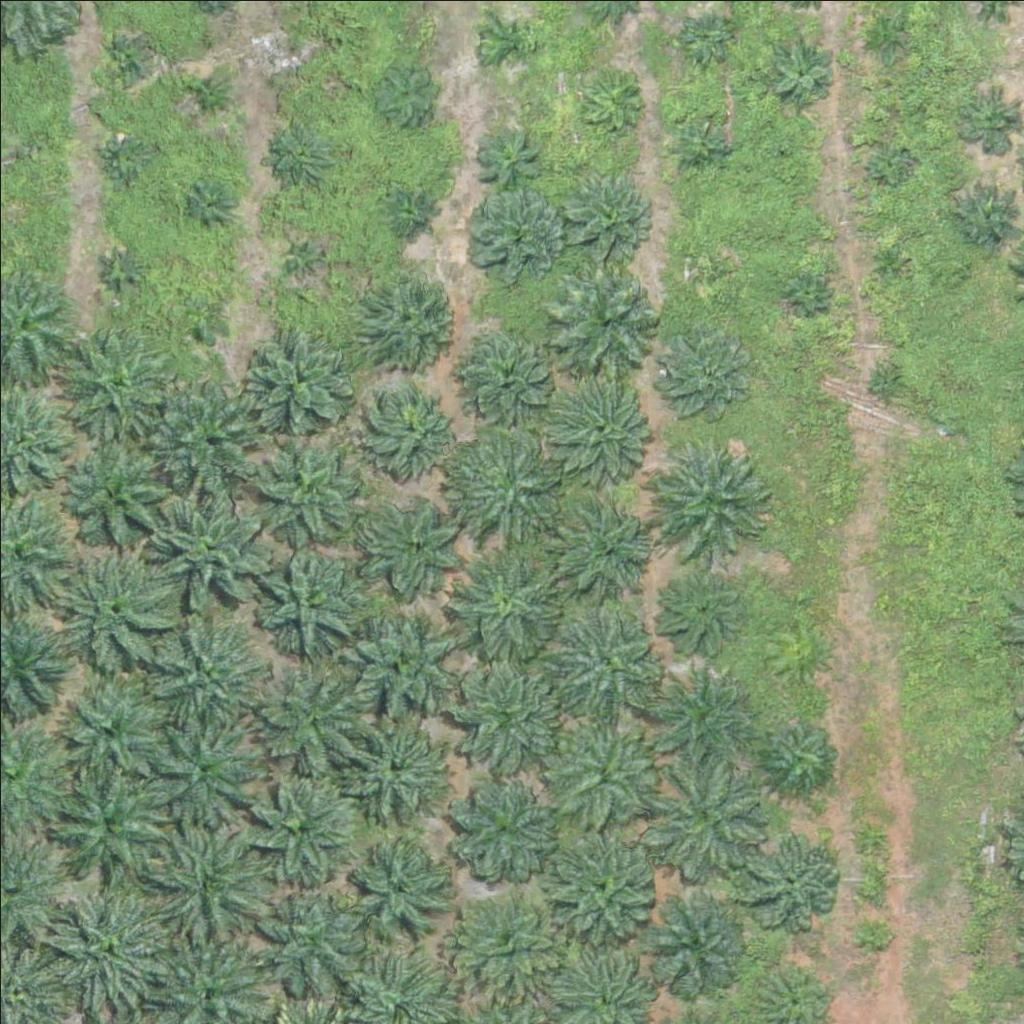Kelapa_Sawit: (51, 885, 176, 1011), (155, 815, 280, 941), (645, 756, 770, 882), (652, 436, 777, 562), (242, 422, 367, 548), (139, 707, 264, 833), (141, 613, 266, 739), (146, 478, 271, 604), (146, 363, 271, 489), (49, 768, 174, 894), (45, 669, 170, 795), (49, 548, 174, 674), (59, 435, 184, 561), (440, 422, 565, 547), (454, 887, 567, 1000), (542, 826, 655, 939), (444, 776, 557, 889), (336, 706, 449, 819), (553, 266, 666, 379), (449, 661, 562, 774), (449, 548, 562, 661), (351, 610, 464, 723), (237, 320, 350, 433), (258, 658, 370, 772), (251, 881, 363, 994), (344, 828, 456, 941), (243, 772, 355, 885), (545, 710, 657, 823), (644, 659, 756, 772), (549, 603, 661, 716), (547, 370, 659, 483), (256, 546, 368, 659), (59, 320, 171, 433), (645, 889, 745, 990), (656, 322, 756, 423), (553, 494, 653, 595), (455, 322, 555, 423), (365, 494, 465, 595), (363, 377, 463, 478), (365, 264, 465, 365), (460, 187, 560, 288), (741, 827, 841, 927), (657, 570, 744, 658), (560, 167, 647, 255), (760, 717, 835, 793), (371, 57, 446, 132), (952, 185, 1015, 248), (669, 112, 732, 175), (773, 43, 835, 106), (268, 121, 330, 184), (477, 130, 539, 193), (579, 67, 641, 130), (483, 19, 533, 70), (183, 72, 233, 123), (684, 13, 734, 63), (185, 182, 235, 232), (99, 35, 149, 85), (96, 245, 146, 295), (100, 134, 150, 184), (280, 230, 330, 280), (177, 299, 227, 349), (872, 146, 910, 184), (868, 244, 906, 282), (867, 363, 905, 401), (865, 20, 903, 58), (854, 912, 891, 950), (390, 189, 428, 226), (682, 251, 720, 288), (787, 270, 824, 308), (278, 44, 303, 69), (768, 133, 793, 158)
